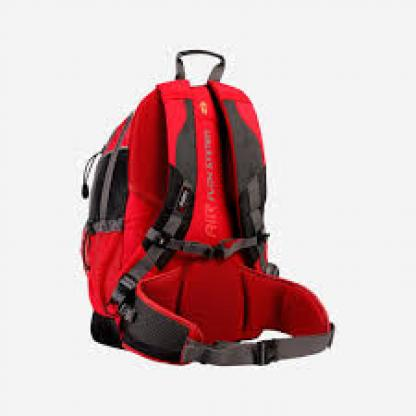morral: (63, 39, 351, 373)
